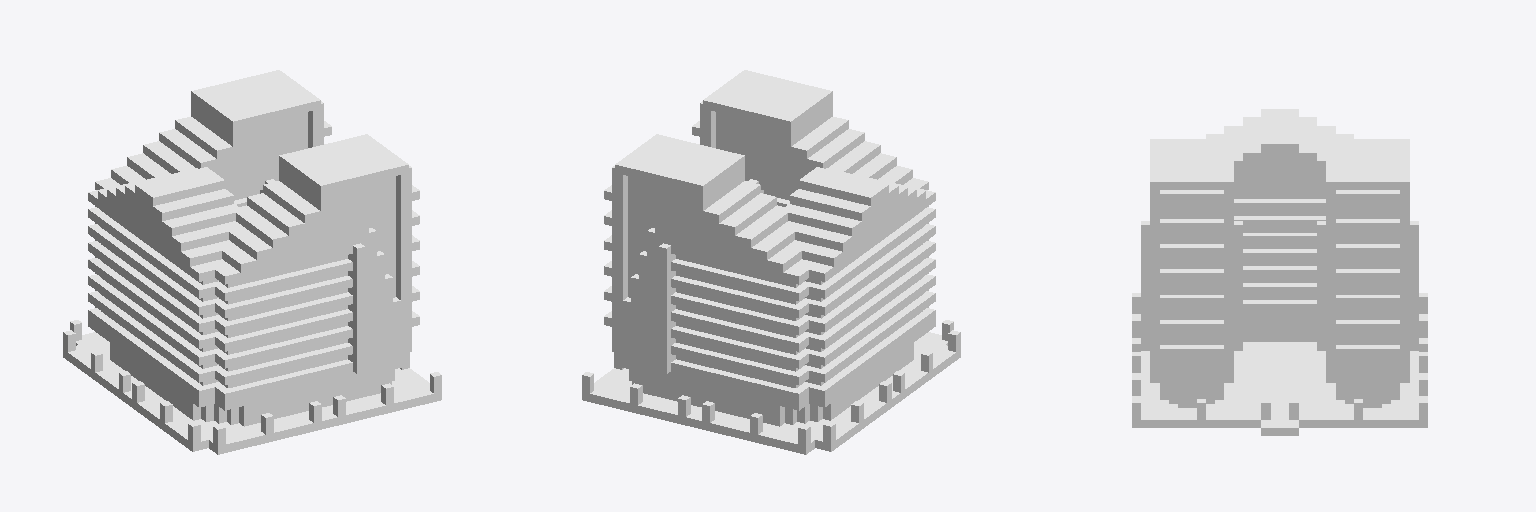
File: cityHall6.obj
The picture shows the model from 3 angles: view 1: azimuth 30°, elevation 25°; view 2: azimuth 150°, elevation 25°; view 3: azimuth 270°, elevation 25°; orthographic projection.
Parts seen in each view (by area): view 1: object 1; view 2: object 1; view 3: object 1.
Part boxes in pixels (left/top/right/bottom): object 1: left=63, top=70, right=441, bottom=454; object 1: left=582, top=70, right=960, bottom=454; object 1: left=1132, top=109, right=1427, bottom=435.
Bounding box in the file's own units: 3.2 × 2.8 × 3.2.